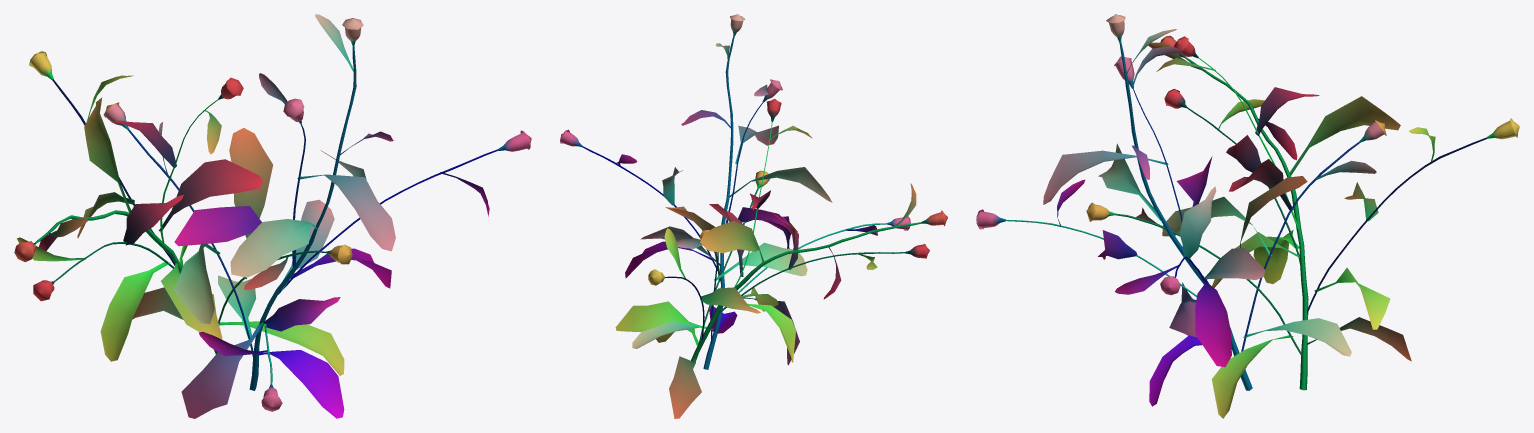
File: Field_Poppy_vmcobd0ja_Mid_vmcobd0ja_VarG_LOD0.fbx
The picture shows the model from 3 angles, left to right: view 1: azimuth 30°, elevation 25°; view 2: azimuth 150°, elevation 25°; view 3: azimuth 270°, elevation 25°; orthographic projection. The views are drawn at different scales.
Visible parts, largest first — view 1: _578g_VarG_LOD1; view 2: _578g_VarG_LOD1; view 3: _578g_VarG_LOD1.
Part boxes in pixels (bbox=[...]): _578g_VarG_LOD1: bbox=[14, 14, 531, 418]; _578g_VarG_LOD1: bbox=[560, 14, 947, 418]; _578g_VarG_LOD1: bbox=[976, 14, 1519, 418].
Bounding box in the file's own units: 51.69 × 39.94 × 50.49.
